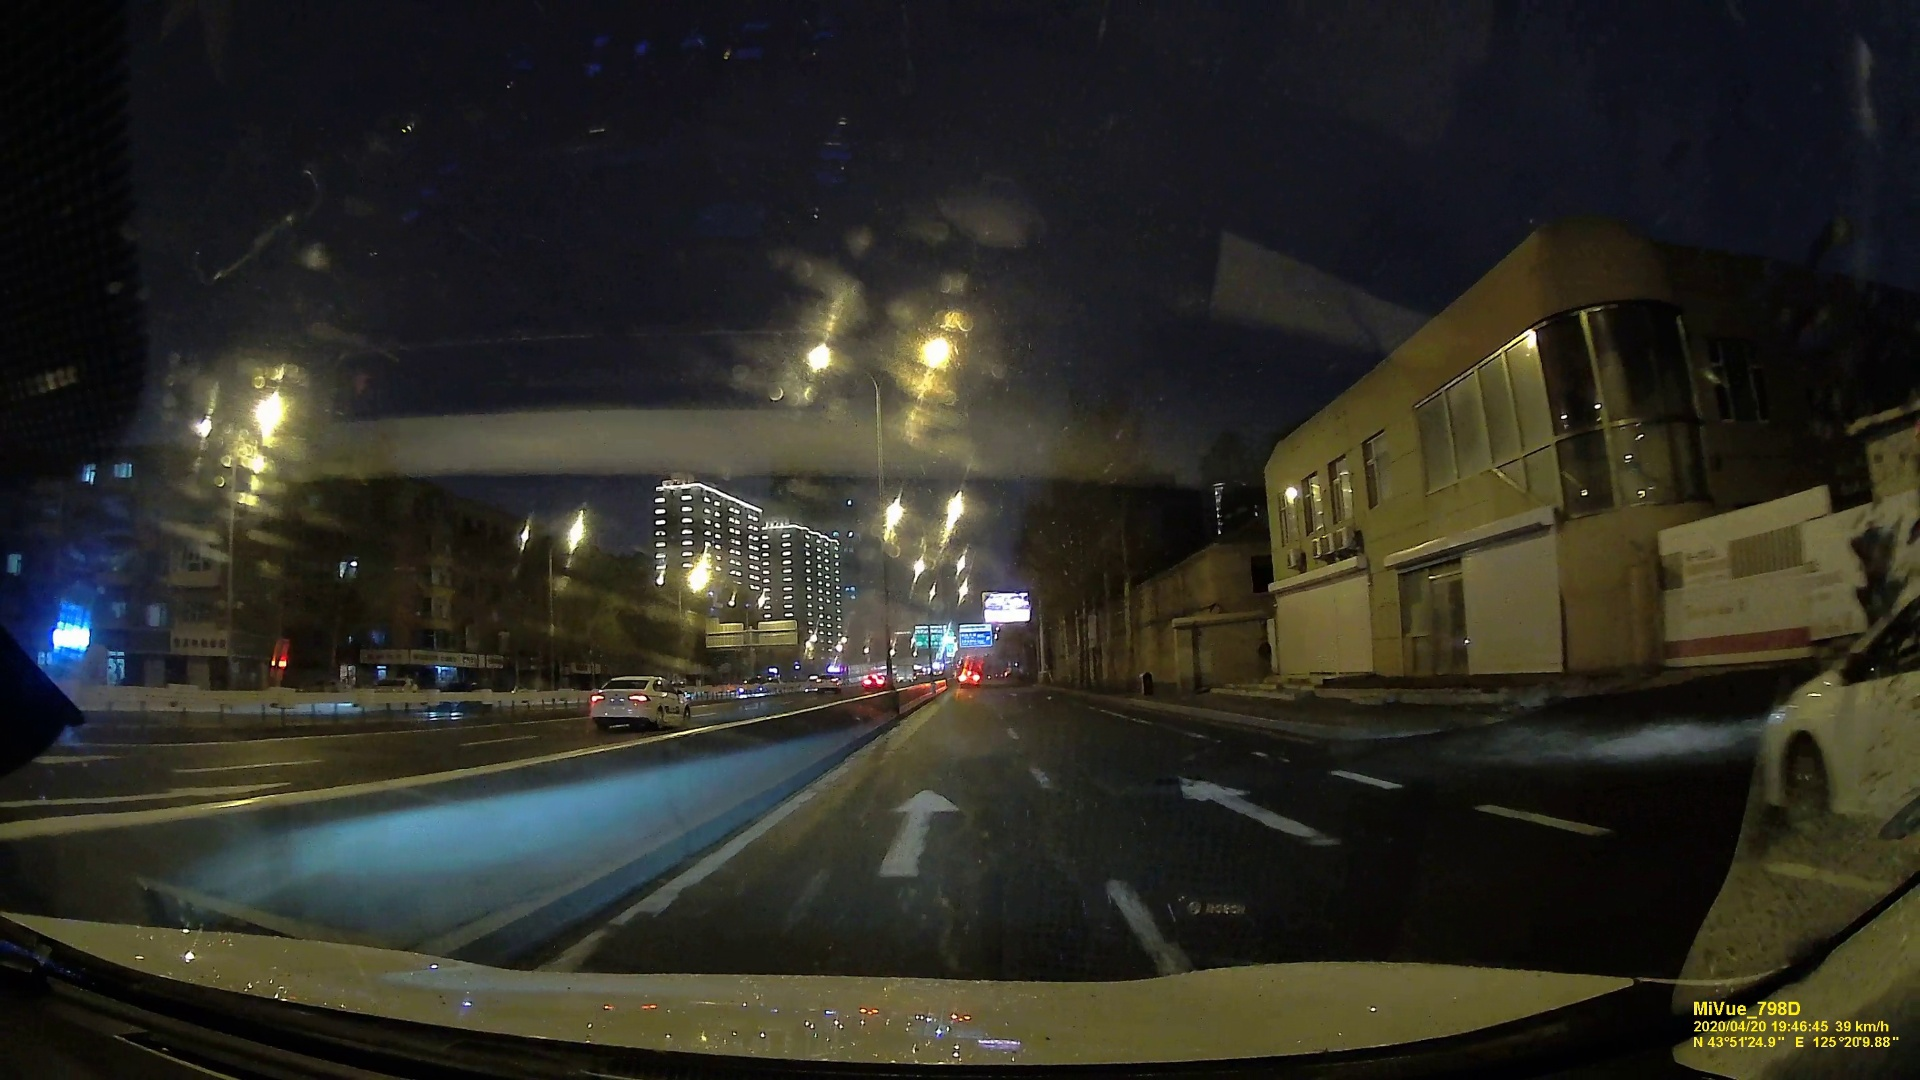traffic_sign: (915, 625, 949, 647), (959, 624, 992, 646)
vehicle: (589, 673, 691, 729), (816, 674, 839, 691)
